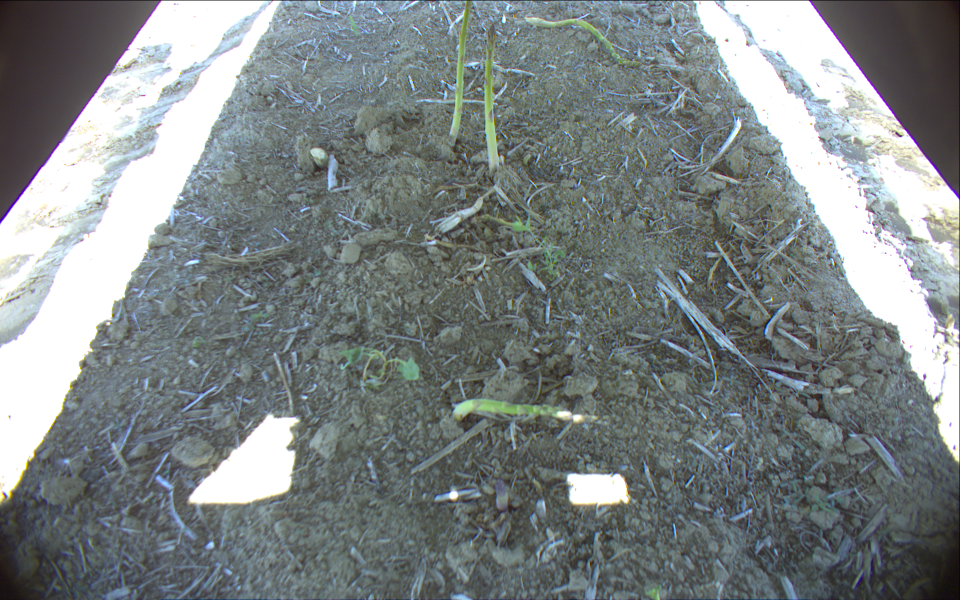aspa: (444, 1, 474, 152), (453, 398, 562, 427), (483, 23, 499, 175)
